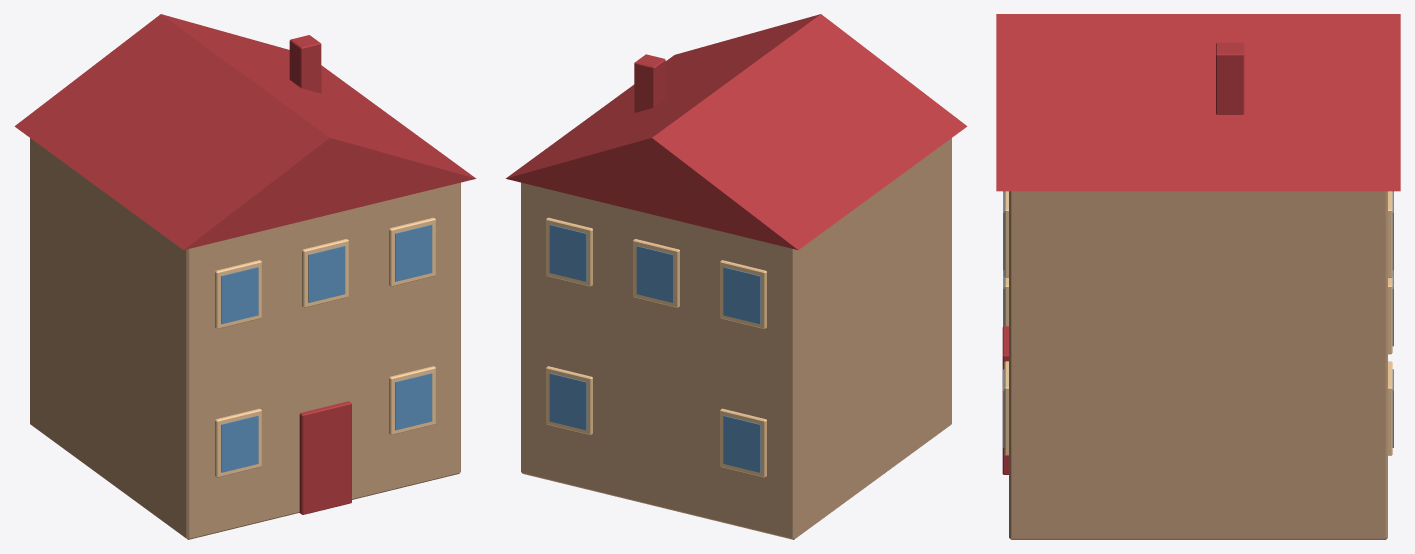
The model's file is house_a.glb.
3 views of the same model, side by side, from view 1: azimuth 30°, elevation 25°; view 2: azimuth 150°, elevation 25°; view 3: azimuth 270°, elevation 25° (orthographic). The views are drawn at different scales.
Parts seen in each view (by area): view 1: wall, house_roof, house_door, wall_glass2, wall_glass0, wall_glass1, wall_glass3, wall_glass4, house_chimney, wall_frame1, wall_frame4, wall_frame0 (+2 smaller); view 2: wall, house_roof, wall_glass_b2, wall_glass_b0, wall_glass_b1, wall_glass_b3, wall_glass_b4, house_chimney, wall_frame_b1, wall_frame_b4, wall_frame_b0, wall_frame_b2 (+1 smaller); view 3: wall, house_roof, house_chimney, house_door.
Boxes of the visible parts, box(x1,y1,x2,y2) form: wall: box(30, 138, 460, 539); house_roof: box(14, 14, 476, 250); house_door: box(299, 401, 351, 514); wall_glass2: box(221, 267, 258, 323); wall_glass0: box(221, 415, 258, 472); wall_glass1: box(395, 373, 432, 430); wall_glass3: box(308, 246, 345, 302); wall_glass4: box(395, 224, 432, 281); house_chimney: box(289, 35, 321, 93); wall_frame1: box(389, 366, 435, 435); wall_frame4: box(389, 217, 435, 286); wall_frame0: box(215, 408, 261, 477); wall: box(521, 138, 951, 539); house_roof: box(505, 14, 967, 250); wall_glass_b2: box(723, 267, 760, 323); wall_glass_b0: box(723, 415, 760, 472); wall_glass_b1: box(549, 373, 586, 430); wall_glass_b3: box(636, 246, 673, 302); wall_glass_b4: box(549, 224, 586, 281); house_chimney: box(634, 54, 665, 112); wall_frame_b1: box(546, 366, 592, 435); wall_frame_b4: box(546, 217, 592, 286); wall_frame_b0: box(720, 408, 766, 477); wall_frame_b2: box(720, 260, 766, 328); wall: box(1009, 191, 1387, 539); house_roof: box(996, 14, 1400, 191); house_chimney: box(1216, 42, 1244, 114); house_door: box(1002, 326, 1008, 474).
Bounding box in the file's own units: 6.4 × 7.95 × 6.4.
